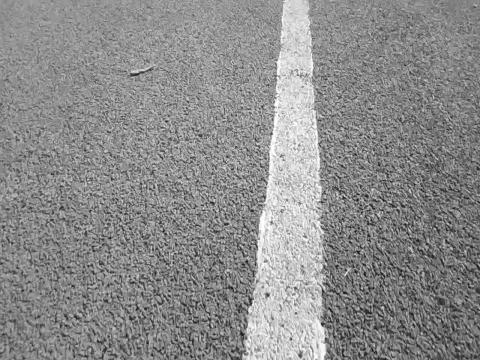Lines: (239, 0, 325, 360)
